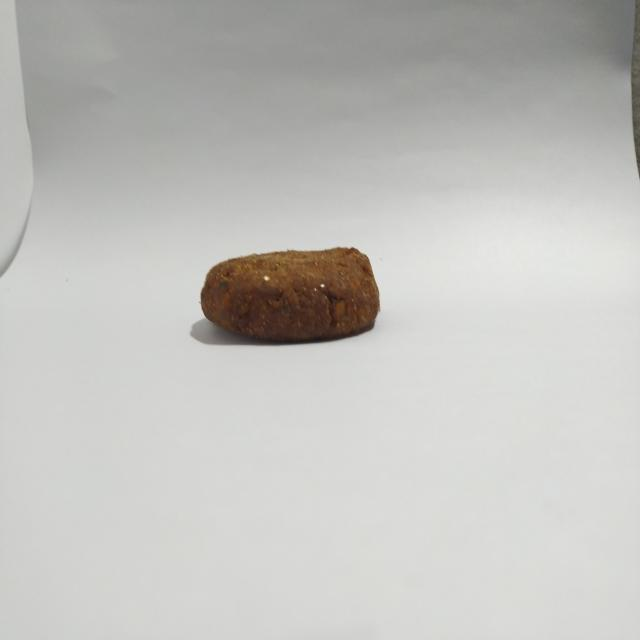Pajagua: (190, 215, 396, 365)
